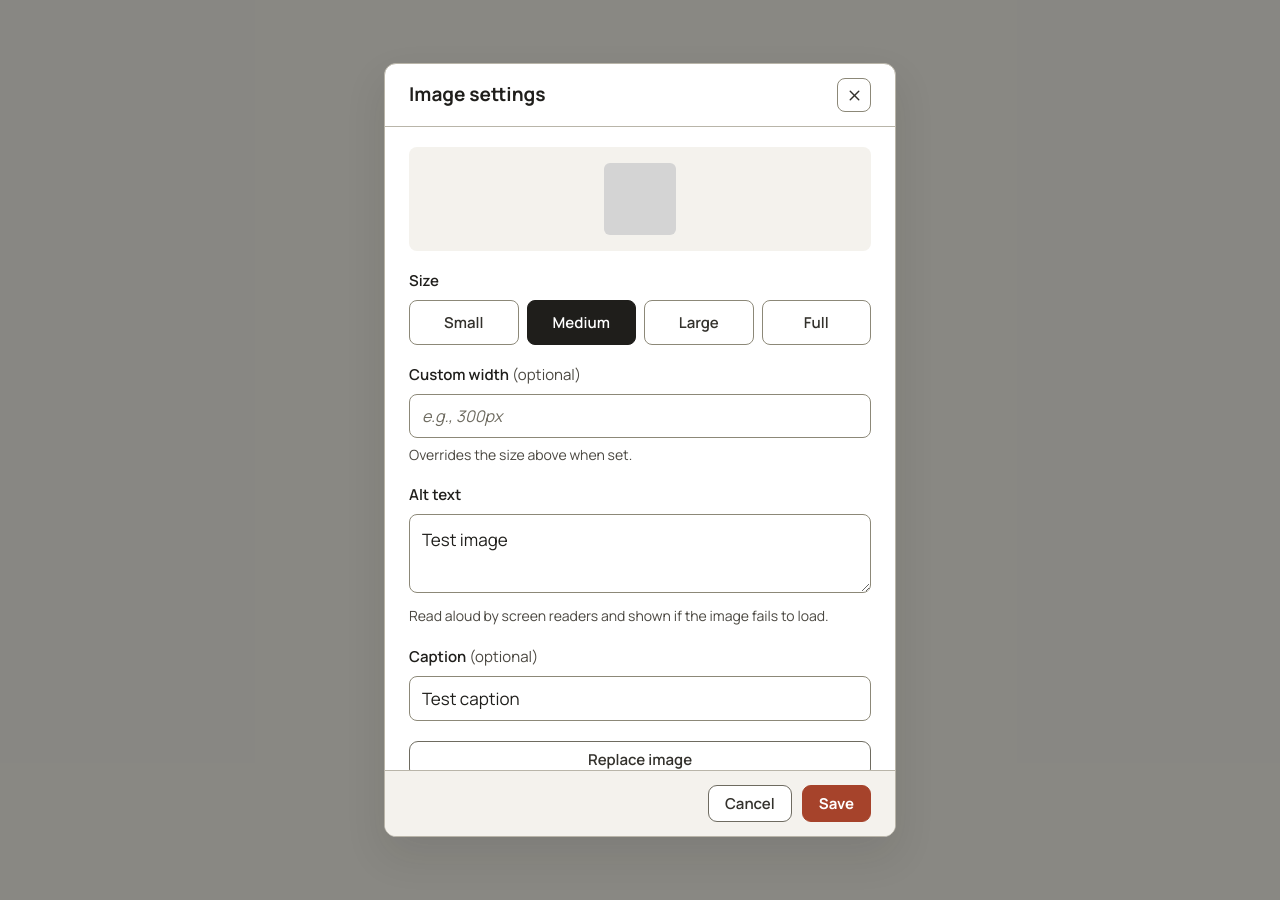
ImageSettingsModal › replace image flow › can go back from replace modal
This screenshot has width=1280, height=900.
Click the button "Replace image" at (640,759), box left=409, top=741, right=871, bottom=778
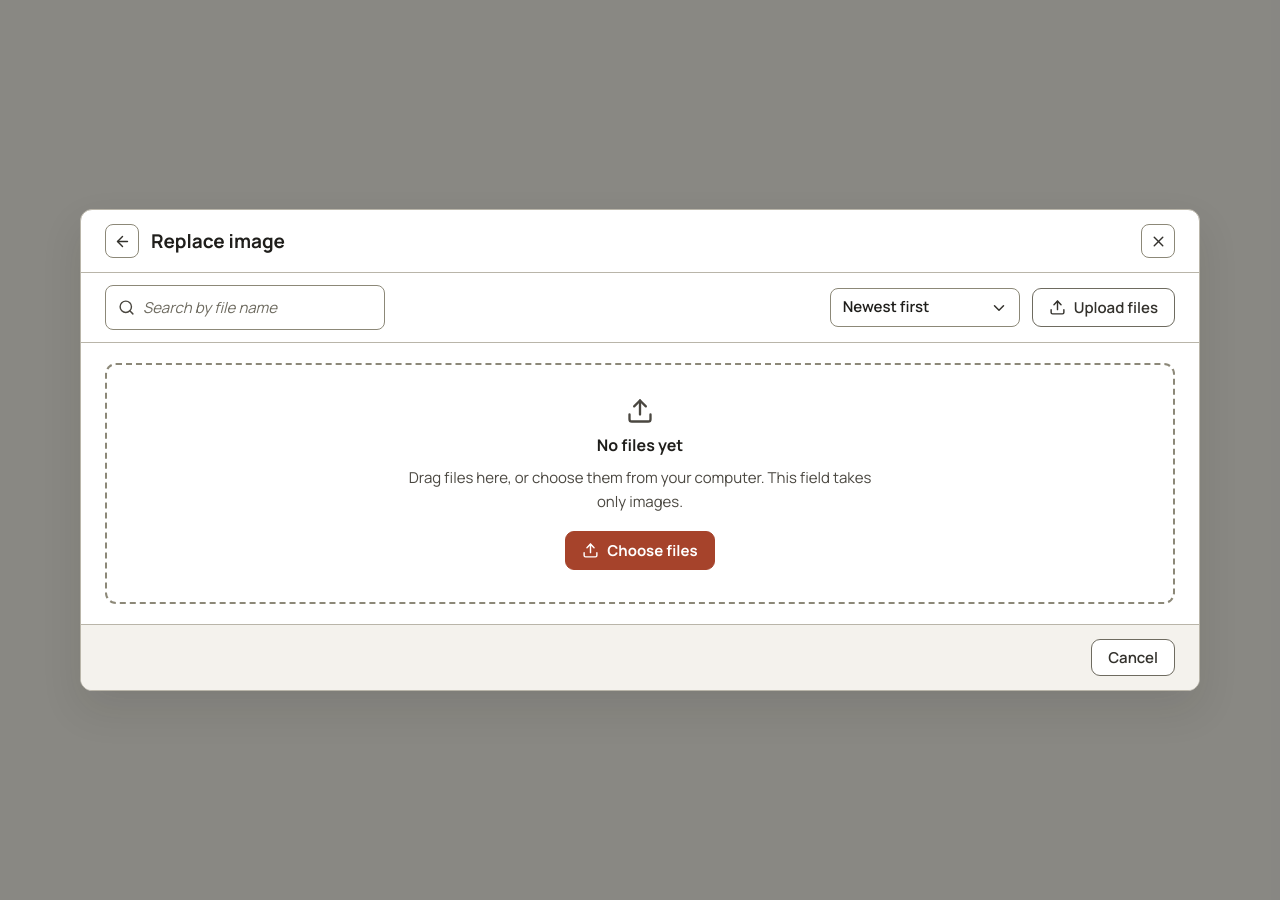
Click the button named "Back" at (122,241), box left=105, top=224, right=139, bottom=258
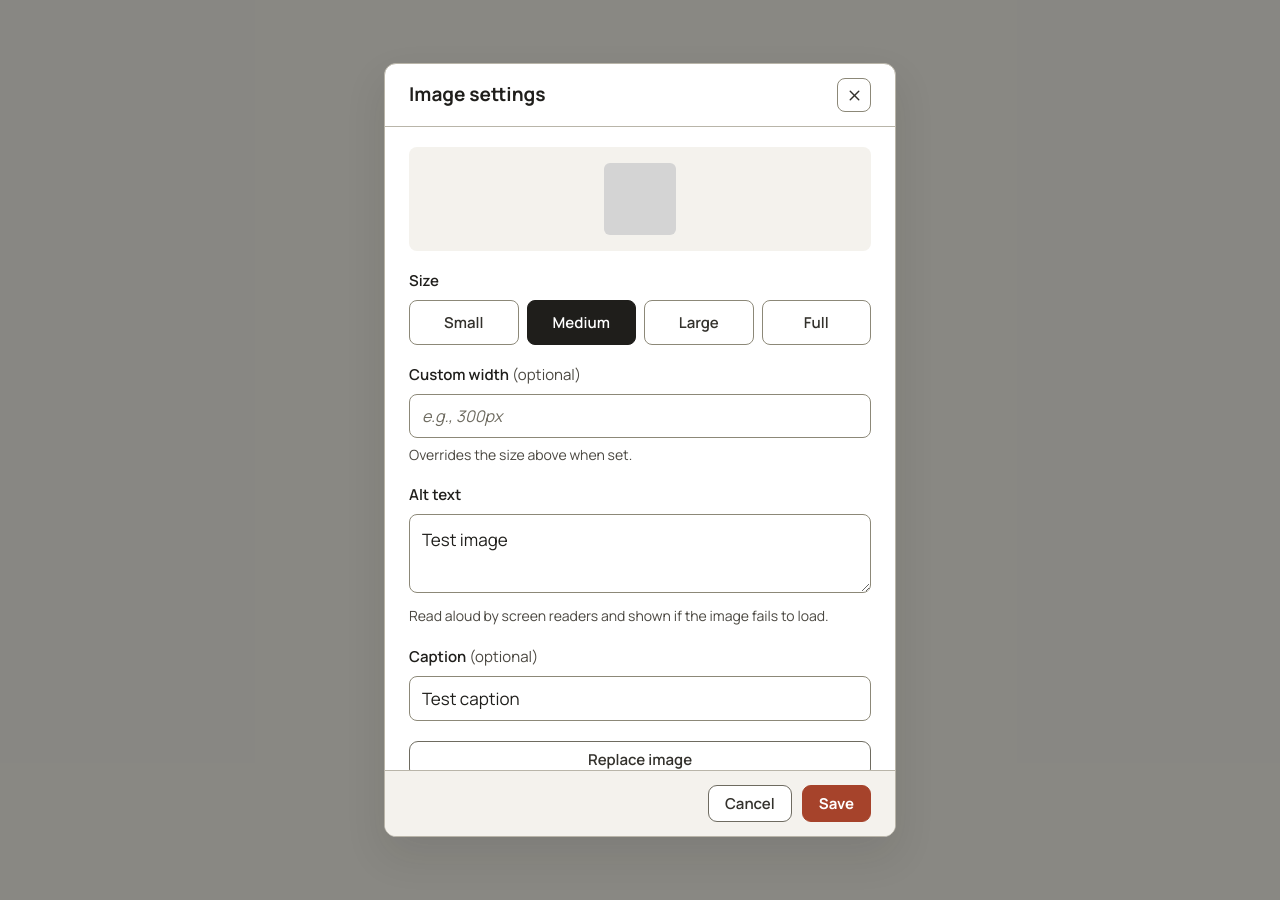
Now the dialog "Image settings" is shown, box left=384, top=63, right=896, bottom=837
